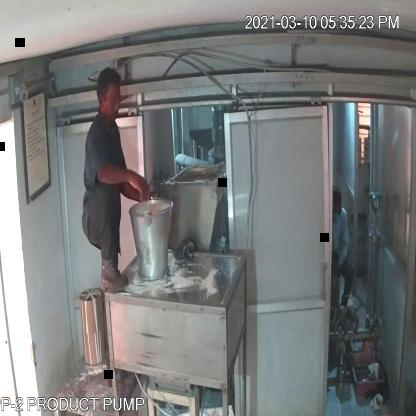no_glove: (90, 150, 151, 204)
